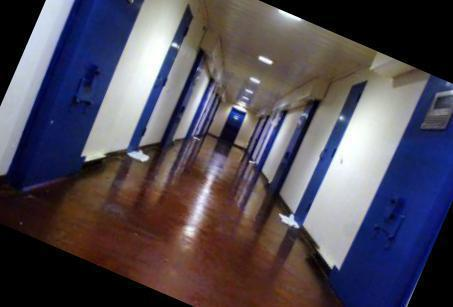Puerta: (330, 68, 453, 307), (26, 0, 170, 185), (126, 5, 198, 151), (292, 84, 361, 226), (267, 99, 317, 195), (161, 53, 209, 148)
